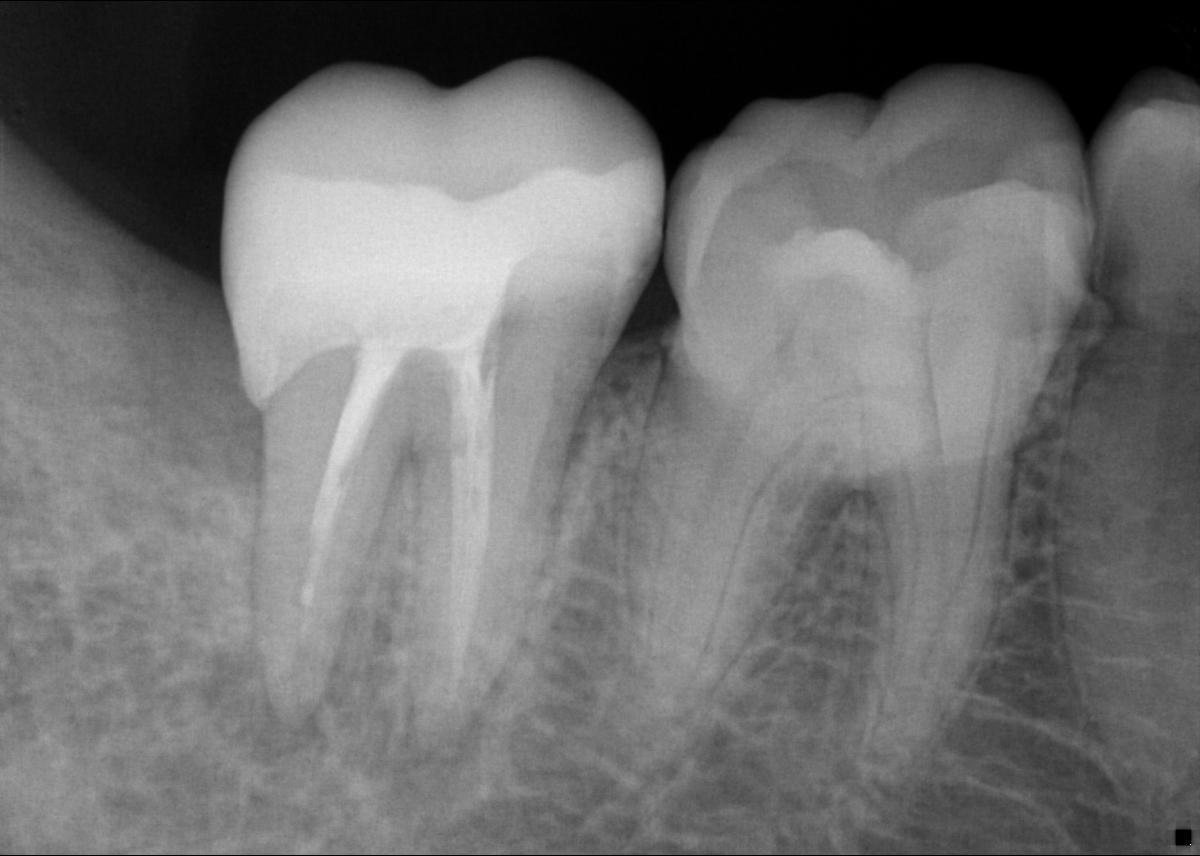Furcation Involvement: (200, 640, 322, 764), (384, 710, 486, 823)
